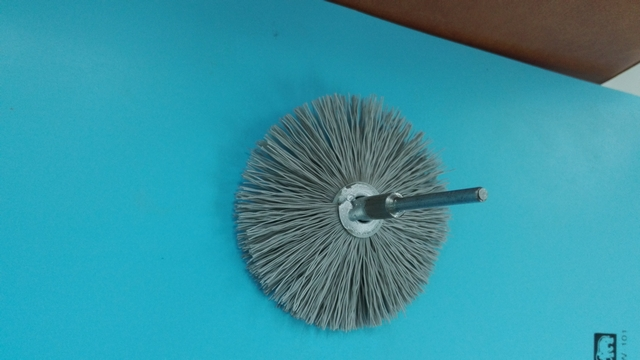TOOL: (209, 86, 516, 338)
